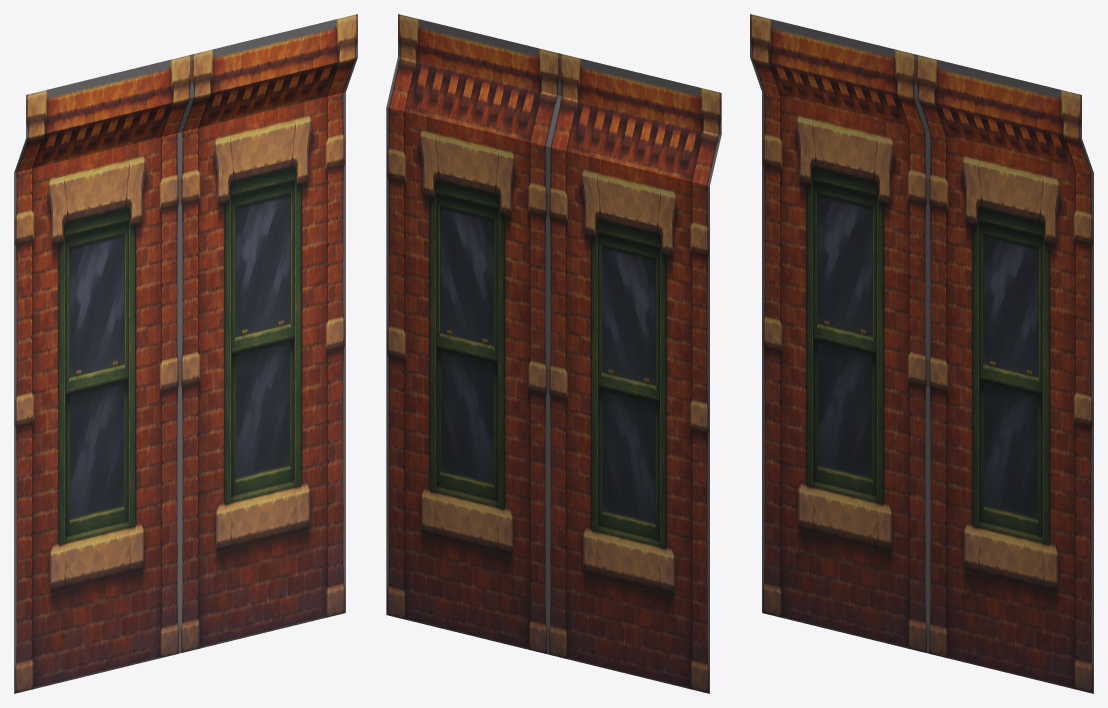
File: BRK_U_Bay2B.fbx
3 views of the same model, side by side, from view 1: azimuth 30°, elevation 25°; view 2: azimuth 150°, elevation 25°; view 3: azimuth 330°, elevation 25° (orthographic). The views are drawn at different scales.
Parts seen in each view (by area): view 1: BRK_U_Bay2B; view 2: BRK_U_Bay2B; view 3: BRK_U_Bay2B.
Boxes of the visible parts, x1,y1,x2,y2 form: BRK_U_Bay2B: [14, 14, 357, 693]; BRK_U_Bay2B: [386, 14, 721, 693]; BRK_U_Bay2B: [750, 14, 1093, 693].
Bounding box in the file's own units: 2 × 0.125 × 3.5.
1 material, 1 textured.
